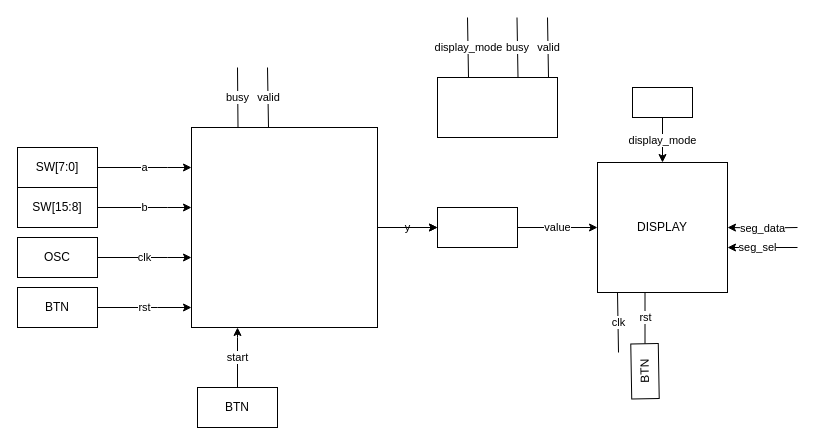
Image size: 823x445. Some labels were removed from this diagram. The shapes that lost their labels are listed below. From the top down, each one's centre as x and y in pixels, then its label:
At (497,107): "LEDS".
At (662,102): "BTNS".
At (284,227): "DEVICE".
At (477,227): "last_result".
